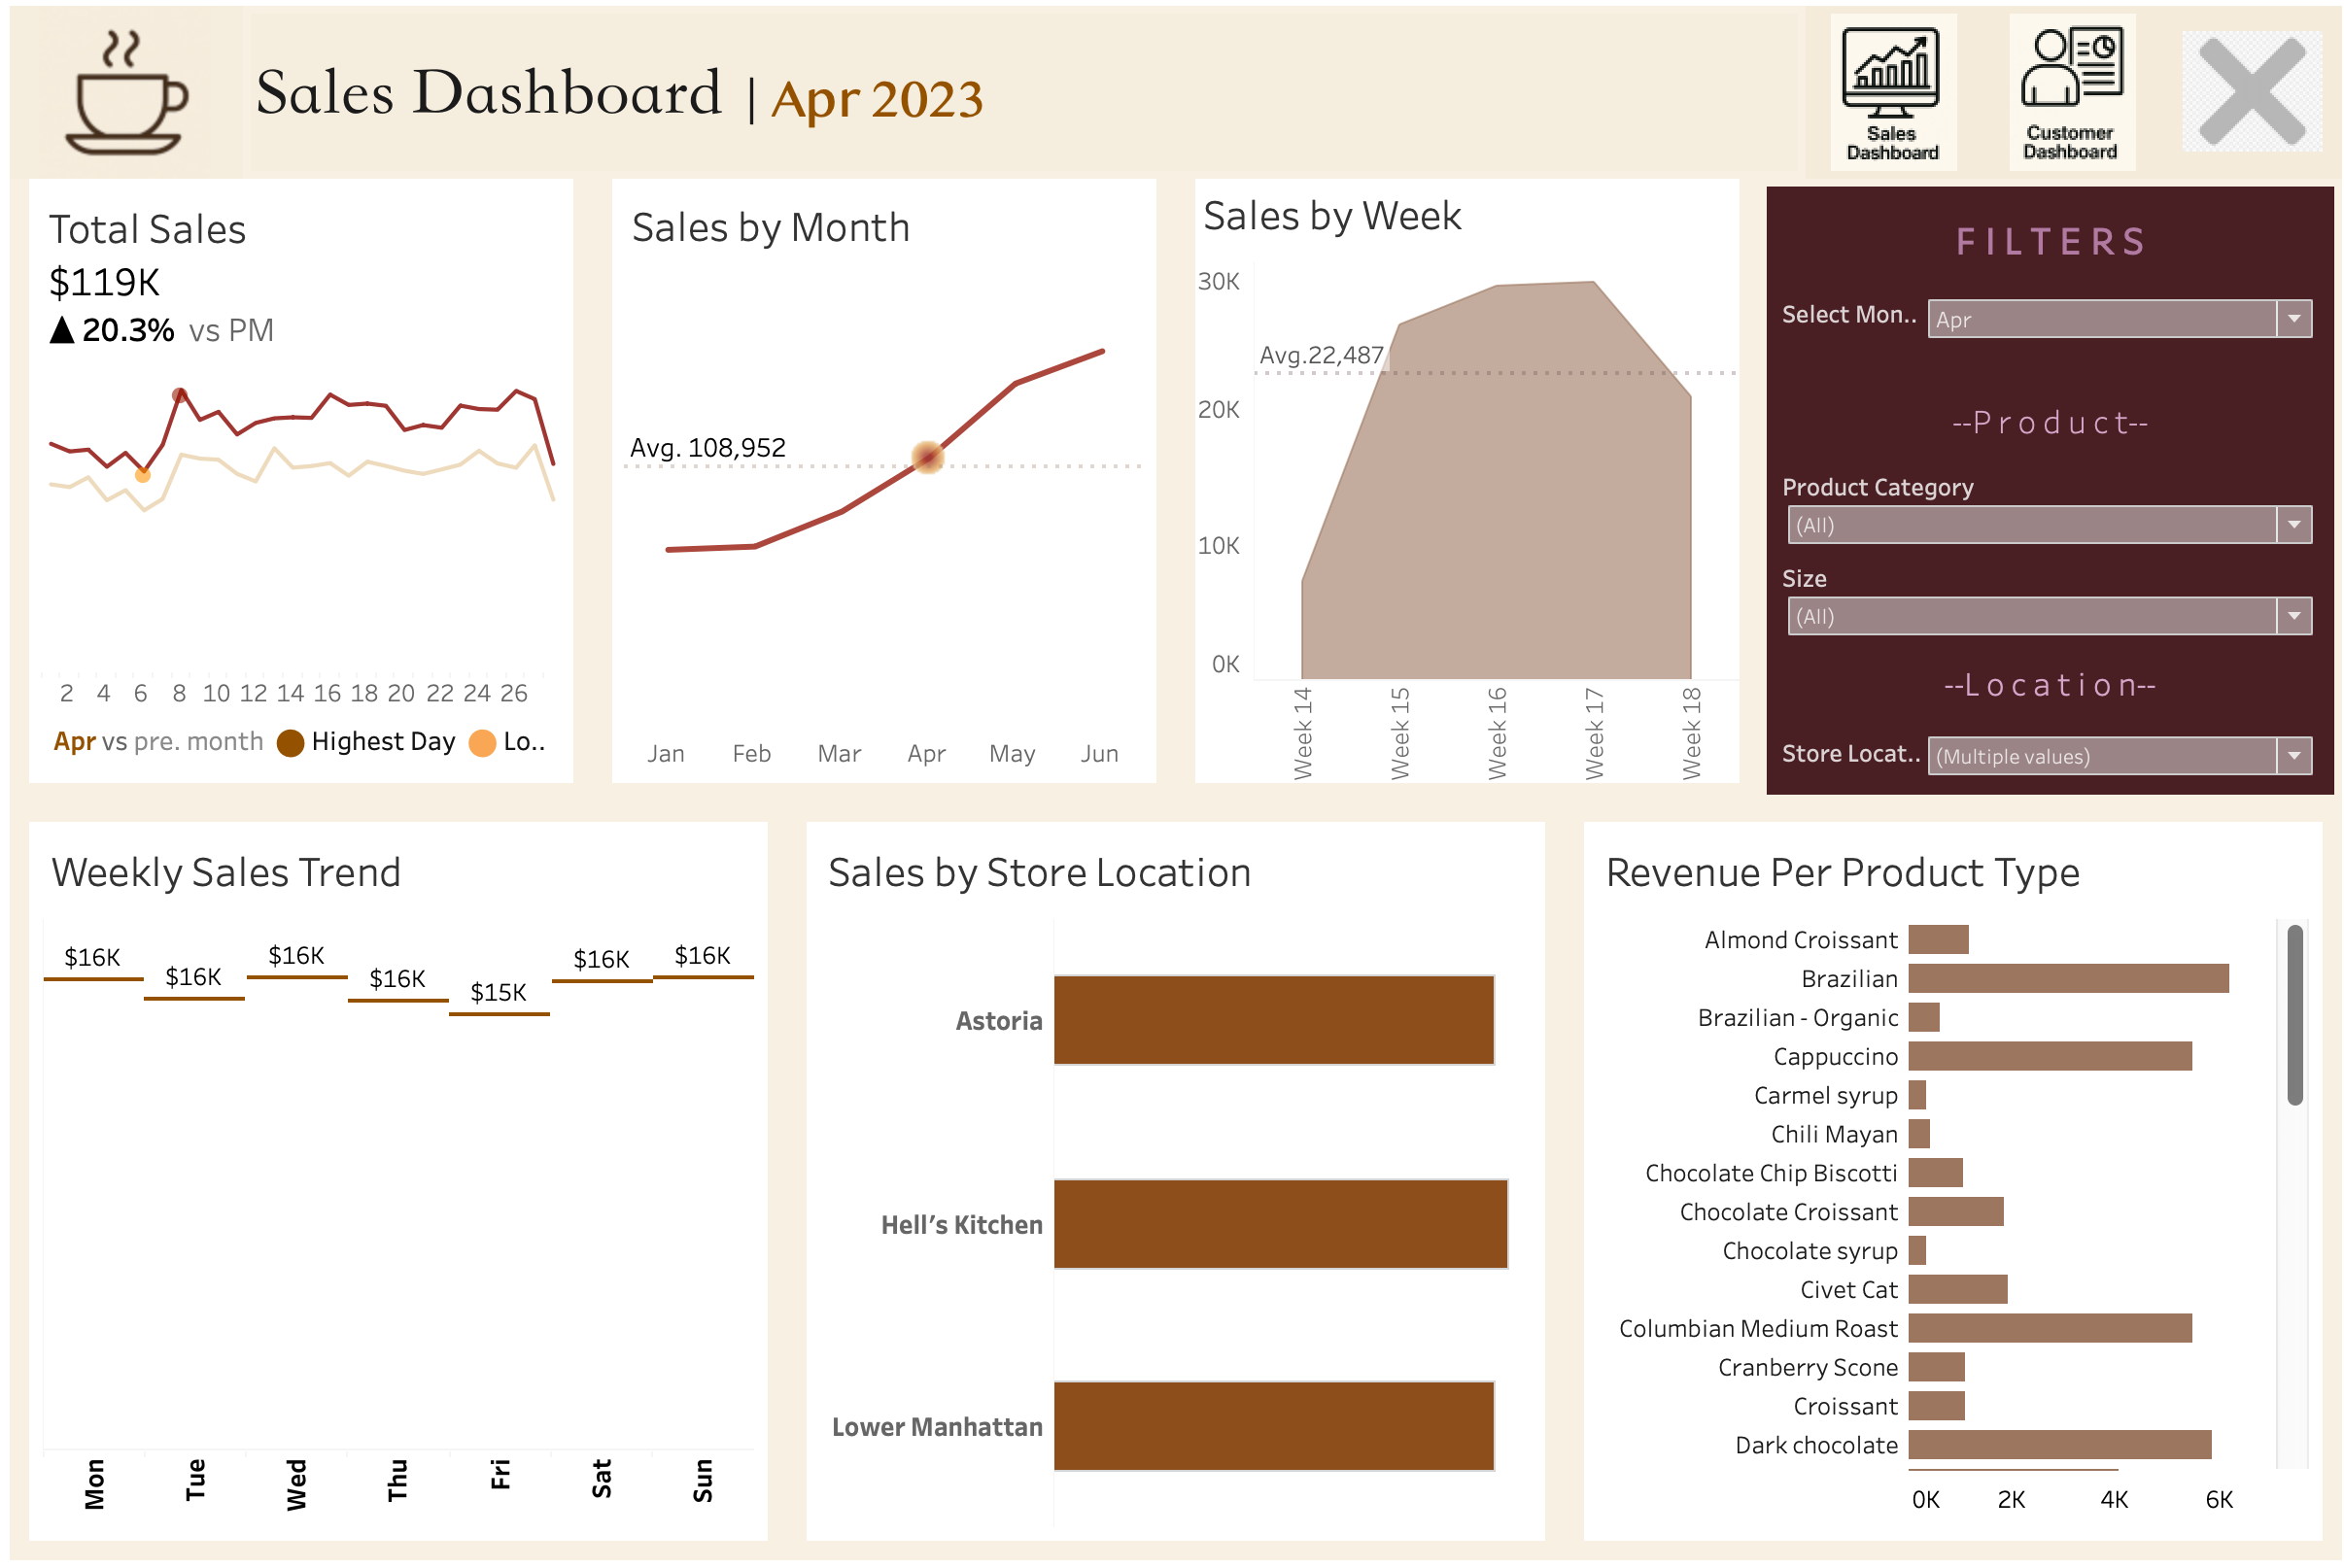

What the dashboard file says about the page in this screenshot:
{"tool":"tableau","page":{"name":"Sales Dashboard","canvas":[1200,800],"ordinal":1},"visuals":[{"type":"image","param":"Image/Icon2.png","box":[0,0,120,89]},{"type":"text","box":[120,0,804,89]},{"type":"dashboard-object","box":[924,0,92,89]},{"type":"dashboard-object","box":[1016,0,92,89]},{"type":"dashboard-object","box":[1108,0,92,89]},{"type":"worksheet","title":"Sales by Month","mark":"Line","rows":["Total_Bill","Calculation_2566559271124299778"],"cols":["transaction_date"],"box":[400,89,400,321]},{"type":"worksheet","title":"Sales by Week","mark":"Area","rows":["Total_Bill"],"cols":["transaction_date"],"box":[800,89,400,321]},{"type":"worksheet","title":"KPI Sales","mark":"Line","rows":["Calculation_5126011232724000768"],"cols":["transaction_date"],"box":[16,95,368,267]},{"type":"text","box":[908,97,284,47.3]},{"type":"parameter","param":"[Parameters].[Parameter 1]","box":[908,144.3,284,47.3]},{"type":"text","box":[908,191.7,284,43]},{"type":"filter","title":"KPI Sales","param":"[federated.1cw3f6g1wk77oe1g50jml00lt89d].[none:product_category:nk]","box":[908,234.7,284,47.3]},{"type":"filter","title":"KPI Sales","param":"[federated.1cw3f6g1wk77oe1g50jml00lt89d].[none:Size:nk]","box":[908,282,284,46]},{"type":"text","box":[908,328,284,42]},{"type":"text","box":[16,362,368,32]},{"type":"filter","title":"KPI Sales","param":"[federated.1cw3f6g1wk77oe1g50jml00lt89d].[none:store_location:nk]","box":[908,370,284,32]},{"type":"worksheet","title":"Weekly Sales Trend","mark":"GanttBar","rows":["Calculation_4496562815699218435"],"cols":["transaction_date"],"box":[0,410,400,390]},{"type":"worksheet","title":" Revenue By Store Location","mark":"Bar","rows":["store_location"],"cols":["Total_Bill"],"box":[400,410,400,390]},{"type":"worksheet","title":"Revenue Per Product Type","mark":"Bar","rows":["product_detail"],"cols":["Total_Bill"],"box":[800,410,400,390]}]}

Visuals, with their boxes in screenshot pixels (x1, y1, x2, y2), scaled from the page's 1200x800 canvas onto the 2344x1568 screenshot:
image: BBox(0, 0, 234, 175)
text: BBox(234, 0, 1805, 175)
dashboard-object: BBox(1805, 0, 1984, 175)
dashboard-object: BBox(1984, 0, 2164, 175)
dashboard-object: BBox(2164, 0, 2343, 175)
"Sales by Month" worksheet (Line marks): BBox(781, 175, 1563, 803)
"Sales by Week" worksheet (Area marks): BBox(1563, 175, 2343, 803)
"KPI Sales" worksheet (Line marks): BBox(31, 187, 750, 709)
text: BBox(1774, 190, 2328, 283)
parameter: BBox(1774, 283, 2328, 376)
text: BBox(1774, 376, 2328, 460)
"KPI Sales" filter: BBox(1774, 460, 2328, 553)
"KPI Sales" filter: BBox(1774, 553, 2328, 643)
text: BBox(1774, 643, 2328, 725)
text: BBox(31, 709, 750, 772)
"KPI Sales" filter: BBox(1774, 725, 2328, 788)
"Weekly Sales Trend" worksheet (GanttBar marks): BBox(0, 803, 781, 1567)
" Revenue By Store Location" worksheet (Bar marks): BBox(781, 803, 1563, 1567)
"Revenue Per Product Type" worksheet (Bar marks): BBox(1563, 803, 2343, 1567)
